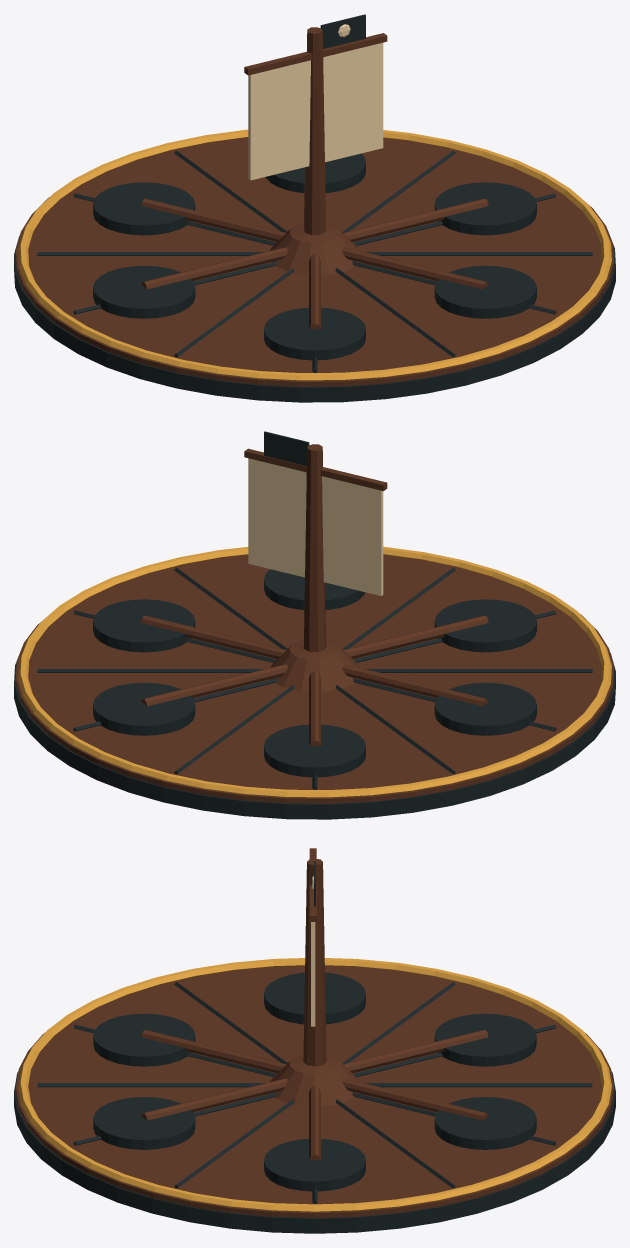
The model's file is ParkParkCorsairHub.obj.
The picture shows the model from 3 angles, top to bottom: view 1: azimuth 30°, elevation 25°; view 2: azimuth 150°, elevation 25°; view 3: azimuth 270°, elevation 25°; orthographic projection.
Visible parts, largest first — view 1: ParkParkCorsairHub; view 2: ParkParkCorsairHub; view 3: ParkParkCorsairHub.
Boxes of the visible parts, <box> form: ParkParkCorsairHub: <box>14,14,615,402</box>; ParkParkCorsairHub: <box>14,431,615,819</box>; ParkParkCorsairHub: <box>14,848,615,1233</box>.
Size of the model in its own units: 16.5 by 7.5 by 16.5.
